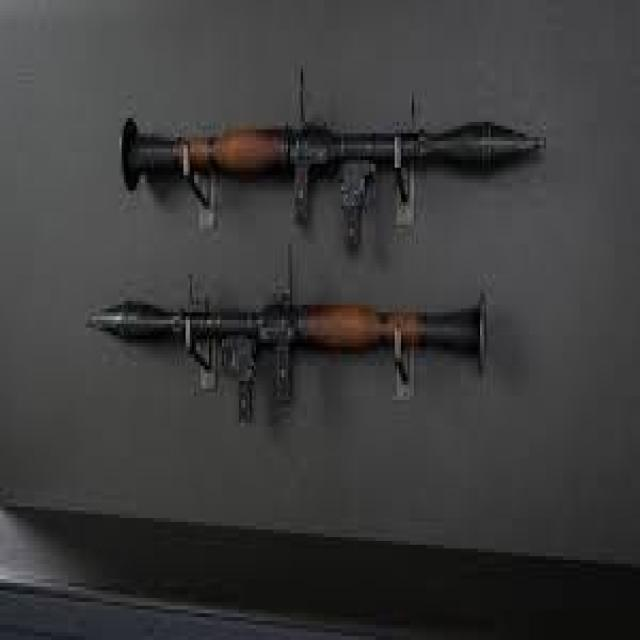Gun: (98, 67, 548, 247), (87, 251, 512, 434)
